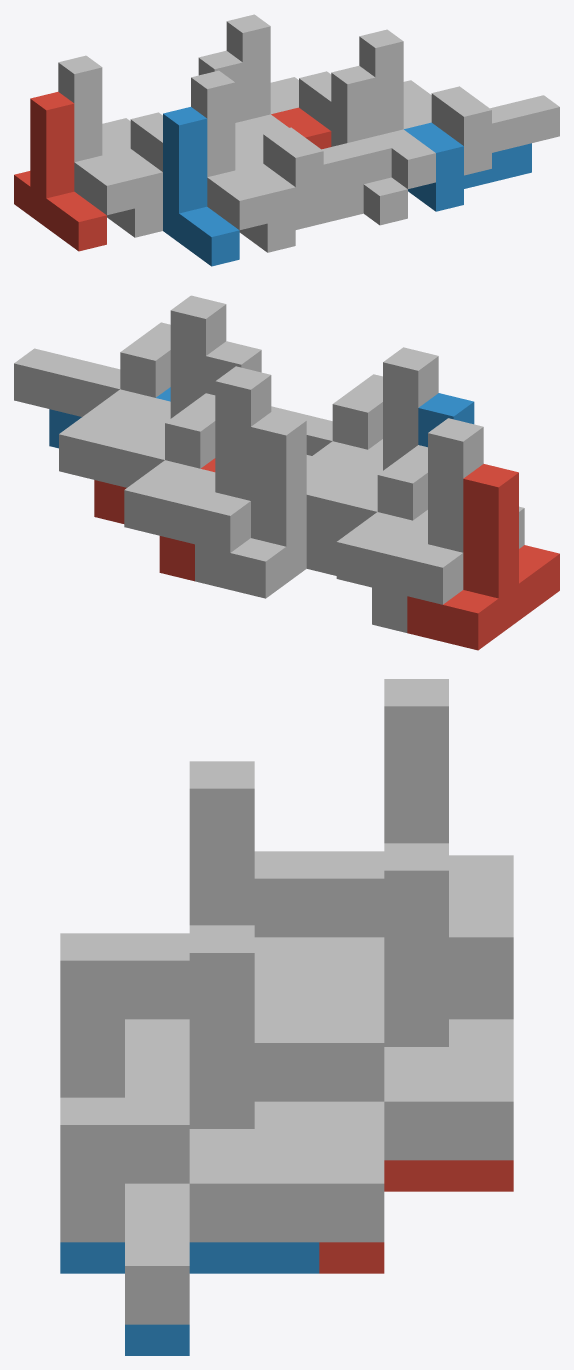
File: tiling.obj
The picture shows the model from 3 angles, top to bottom: view 1: azimuth 30°, elevation 25°; view 2: azimuth 150°, elevation 25°; view 3: azimuth 270°, elevation 25°; orthographic projection. The views are drawn at different scales.
Parts seen in each view (by area): view 1: copy_1_domain_1, copy_1_domain_2, copy_2_domain_4, copy_2_domain_8, copy_1_domain_3, copy_1_domain_4, copy_1_domain_8, copy_1_domain_6, copy_2_domain_2, copy_2_domain_6, copy_1_domain_7, copy_2_domain_1 (+4 smaller); view 2: copy_1_domain_1, copy_1_domain_5, copy_1_domain_3, copy_2_domain_7, copy_1_domain_7, copy_2_domain_8, copy_2_domain_3, copy_1_domain_8, copy_1_domain_4, copy_2_domain_4, copy_2_domain_5, copy_2_domain_1 (+3 smaller); view 3: copy_2_domain_8, copy_2_domain_7, copy_2_domain_3, copy_2_domain_4, copy_1_domain_8, copy_1_domain_7, copy_1_domain_4, copy_1_domain_3, copy_2_domain_6, copy_2_domain_5, copy_2_domain_1, copy_2_domain_2.
Part boxes in pixels (box(x1,y1,x2,y2)): copy_1_domain_1: box(14, 92, 106, 251); copy_1_domain_2: box(163, 107, 239, 266); copy_2_domain_4: box(235, 127, 391, 216); copy_2_domain_8: box(403, 86, 559, 175); copy_1_domain_3: box(58, 55, 134, 215); copy_1_domain_4: box(191, 70, 267, 230); copy_1_domain_8: box(359, 29, 435, 188); copy_1_domain_6: box(331, 65, 407, 225); copy_2_domain_2: box(235, 163, 363, 252); copy_2_domain_6: box(404, 122, 531, 211); copy_1_domain_7: box(226, 14, 298, 135); copy_2_domain_1: box(103, 148, 162, 237); copy_1_domain_1: box(407, 464, 559, 650); copy_1_domain_5: box(195, 412, 306, 598); copy_1_domain_3: box(372, 418, 524, 604); copy_2_domain_7: box(59, 393, 215, 535); copy_1_domain_7: box(159, 366, 311, 552); copy_2_domain_8: box(14, 322, 170, 427); copy_2_domain_3: box(306, 445, 427, 587); copy_1_domain_8: box(115, 295, 226, 439); copy_1_domain_4: box(327, 347, 438, 491); copy_2_domain_4: box(271, 374, 382, 479); copy_2_domain_5: box(94, 458, 215, 581); copy_2_domain_1: box(306, 510, 427, 632); copy_2_domain_8: box(60, 1097, 319, 1324); copy_2_domain_7: box(254, 1015, 513, 1242); copy_2_domain_3: box(254, 851, 513, 1015); copy_2_domain_4: box(60, 933, 319, 1097); copy_1_domain_8: box(189, 925, 319, 1156); copy_1_domain_7: box(384, 843, 513, 1074); copy_1_domain_4: box(189, 761, 319, 991); copy_1_domain_3: box(384, 679, 513, 909); copy_2_domain_6: box(60, 1242, 319, 1355); copy_2_domain_5: box(319, 1160, 513, 1273); copy_2_domain_1: box(449, 996, 513, 1019); copy_2_domain_2: box(60, 1078, 124, 1097).
Size of the model in its own units: 16 by 5 by 7.
